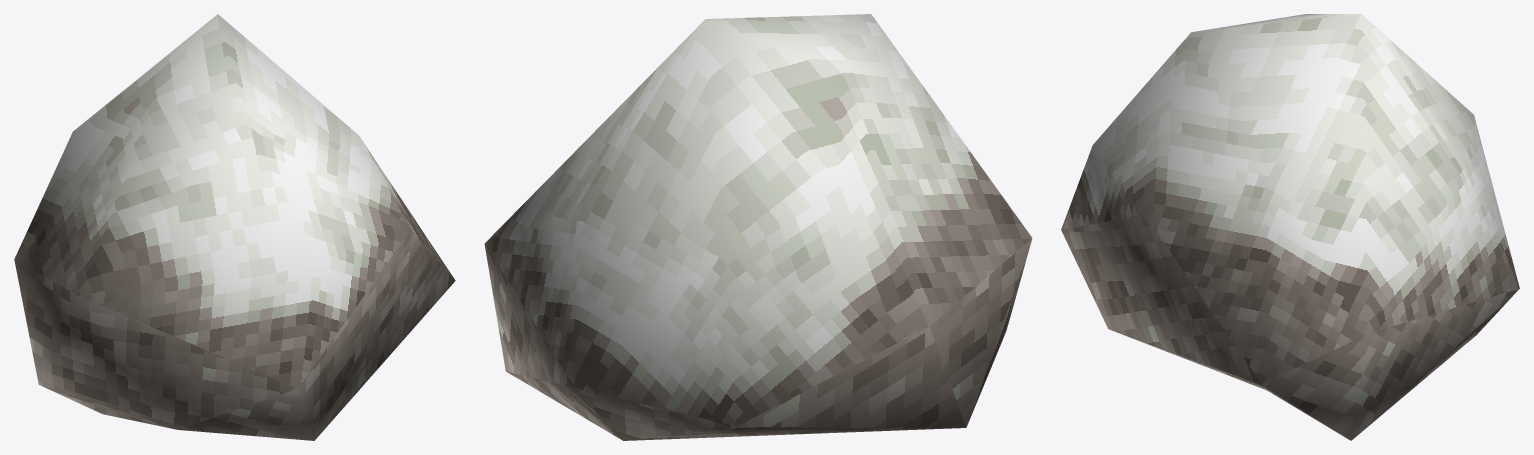
File: sbouldersno_1.obj
3 renders of one model, left to right at view 1: azimuth 30°, elevation 25°; view 2: azimuth 150°, elevation 25°; view 3: azimuth 270°, elevation 25°, orthographic. The views are drawn at different scales.
Parts seen in each view (by area): view 1: sbouldersno_1; view 2: sbouldersno_1; view 3: sbouldersno_1.
Part boxes in pixels (x1,y1,x2,y2): sbouldersno_1: (14,14,455,440); sbouldersno_1: (484,14,1032,440); sbouldersno_1: (1061,14,1519,440).
Bounding box in the file's own units: 1.01 × 0.9055 × 1.01.
